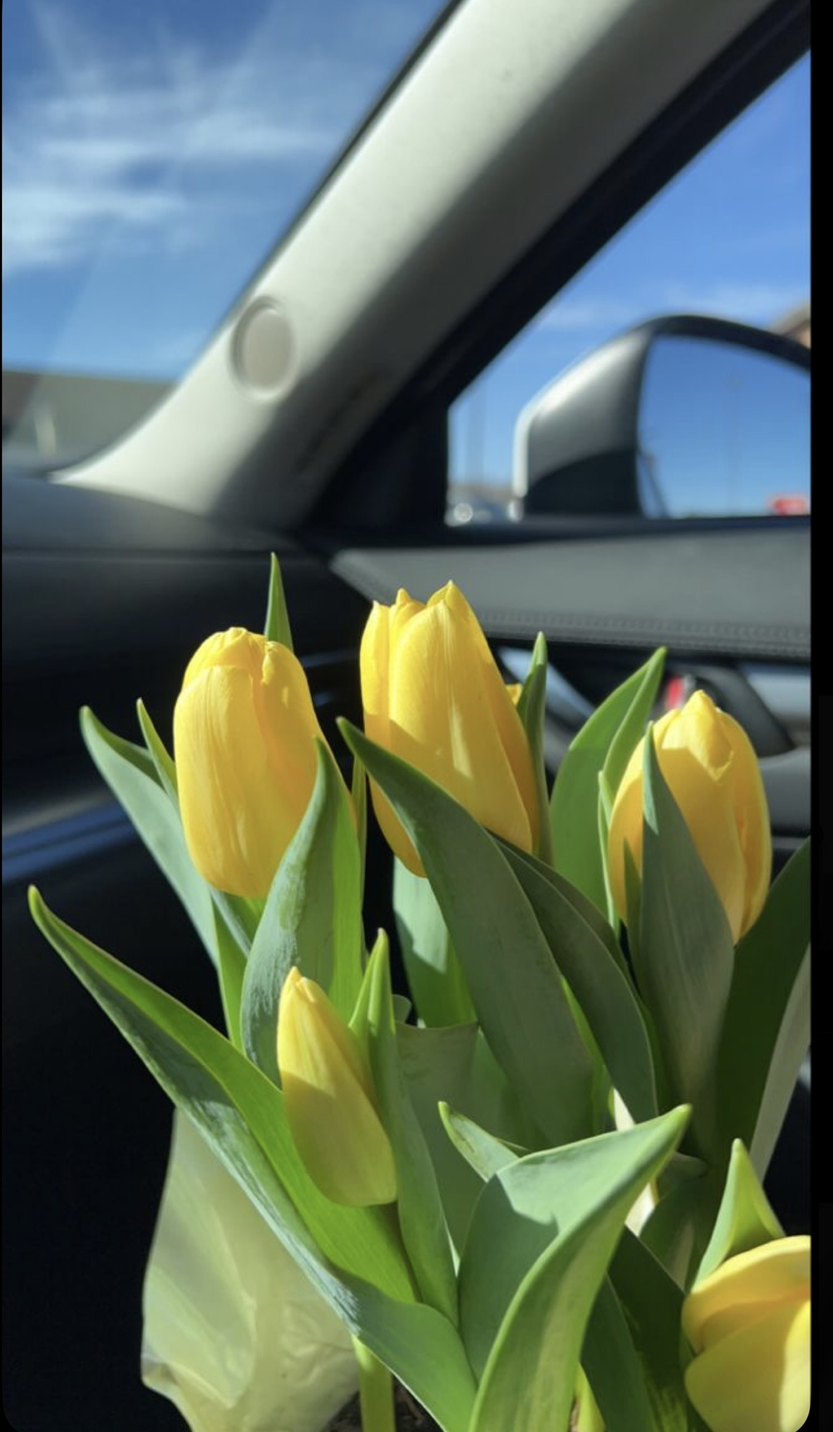tulip: (341, 573, 561, 895), (594, 675, 791, 993), (152, 615, 341, 916), (255, 950, 440, 1226), (670, 1214, 809, 1431)
